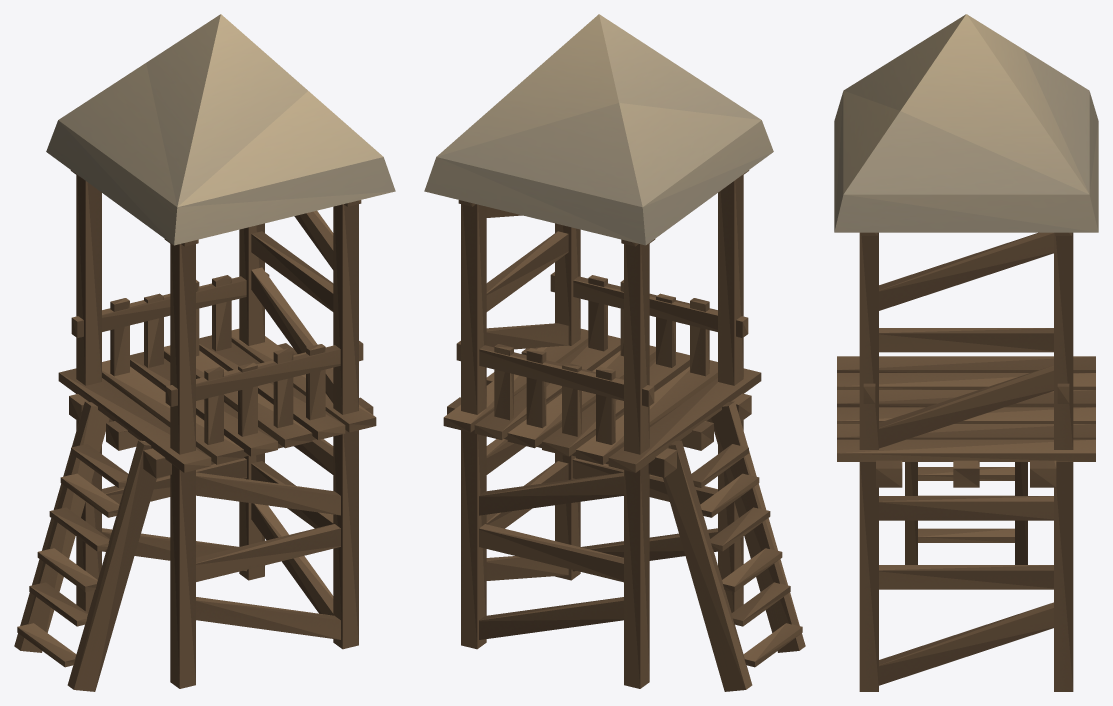
The model's file is Tower.fbx.
3 views of the same model, side by side, from view 1: azimuth 30°, elevation 25°; view 2: azimuth 150°, elevation 25°; view 3: azimuth 270°, elevation 25° (orthographic). The views are drawn at different scales.
Parts seen in each view (by area): view 1: polySurface179; view 2: polySurface179; view 3: polySurface179.
Boxes of the visible parts, x1,y1,x2,y2 form: polySurface179: (14, 14, 395, 691); polySurface179: (424, 14, 805, 691); polySurface179: (834, 14, 1098, 691).
Bounding box in the file's own units: 535 × 1088 × 408.
